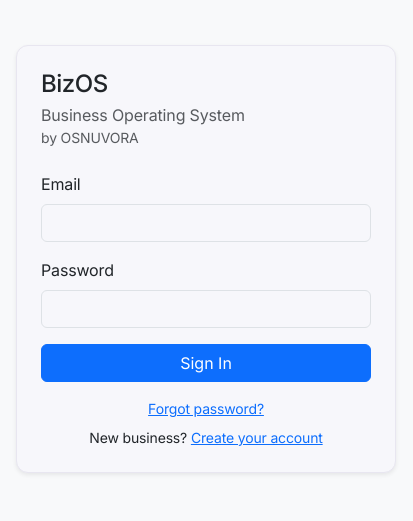
Login page › shows the server error message and does not navigate on failed login
This screenshot has width=413, height=521.
In the field labelled "Email": (206, 223) [41,204,371,242], type "wrong@example.com"
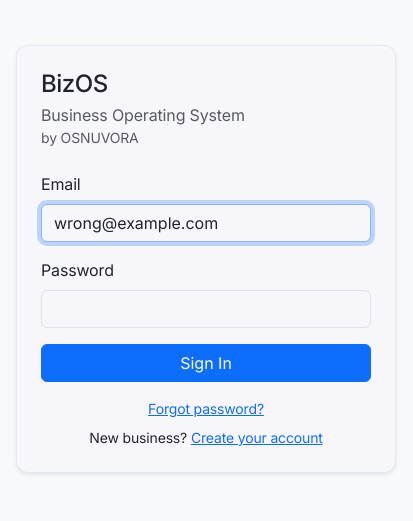
In the password field labelled "Password": (206, 309) [41,290,371,328], type "bad-password"
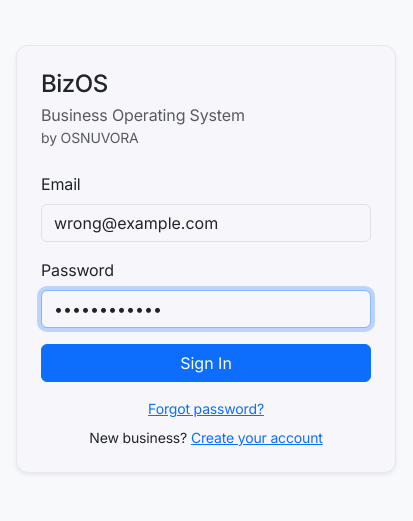
Click the button "Sign In": (206, 363) [41,344,371,382]
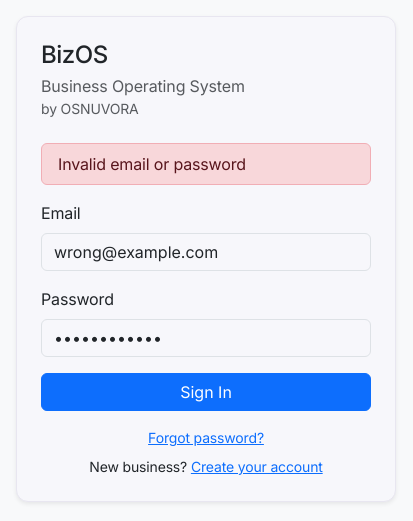
Expected: the text "Invalid email or password" is shown, [41,143,371,185]
